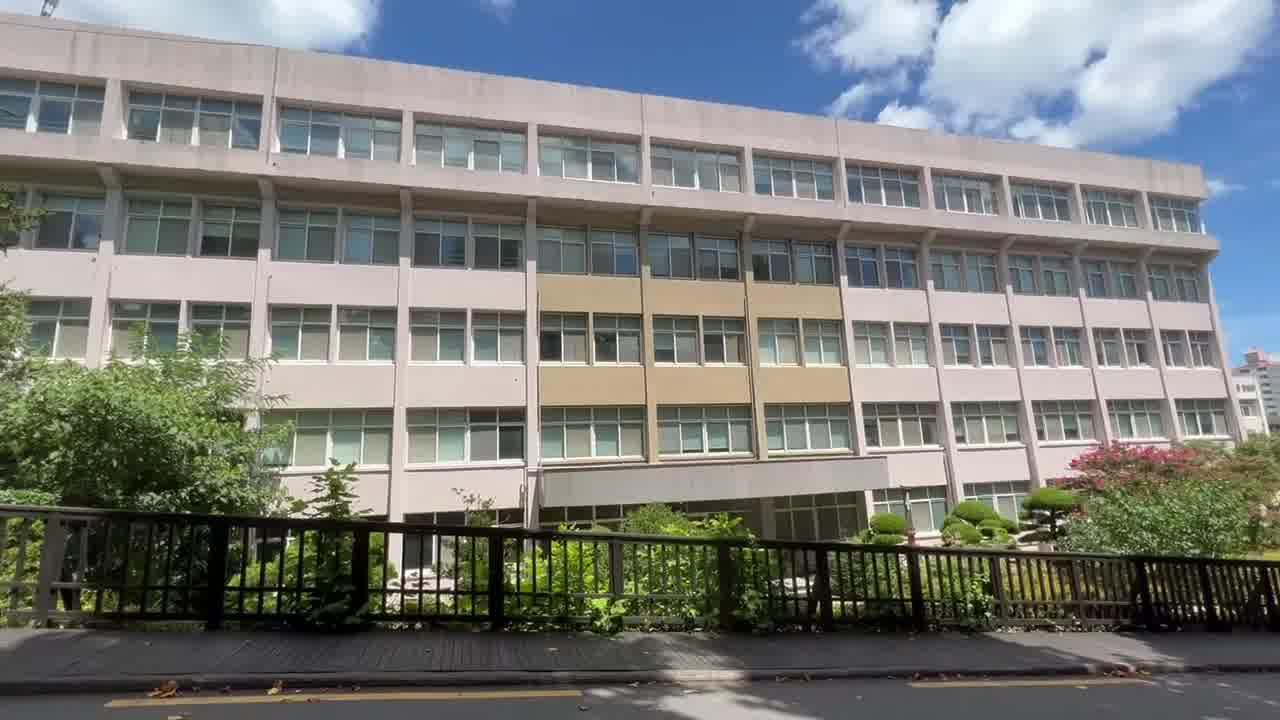building: (44, 51, 1214, 479)
